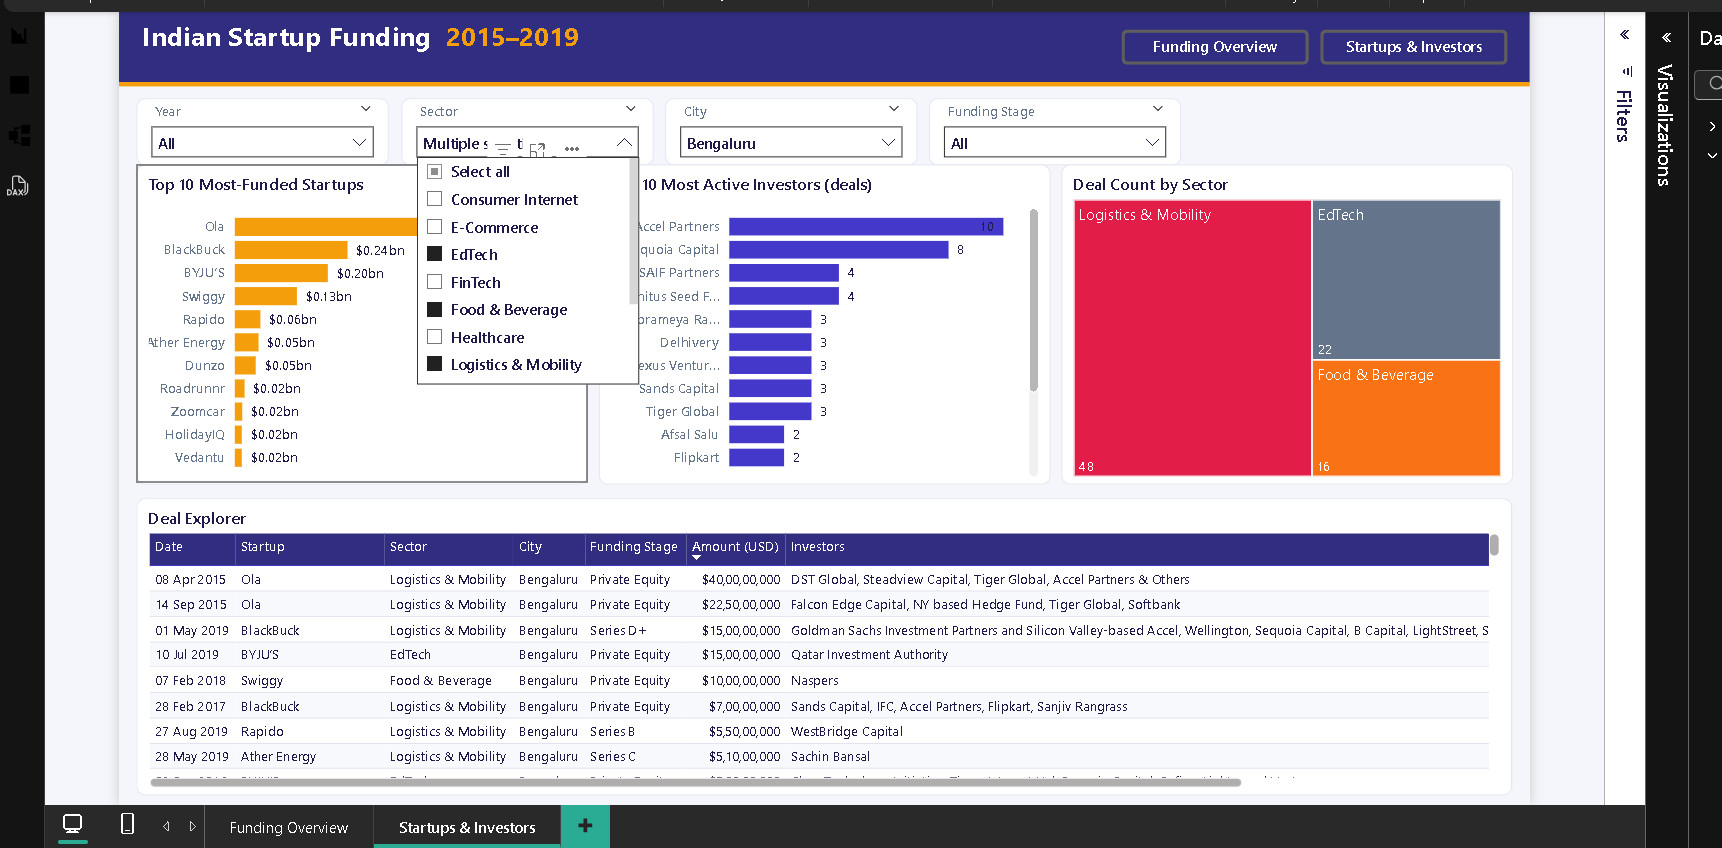

The dashboard page shown, as its layout file describes it:
{"tool":"powerbi","page":{"name":"Startups & Investors","canvas":[1280,720],"ordinal":1},"visuals":[{"type":"shape","box":[0,0,1280,64],"z":1000},{"type":"shape","box":[0,64,1280,4],"z":2000},{"type":"textbox","box":[16.3,0,641.9,45.3],"z":3000},{"type":"actionButton","box":[910,16,170,32],"z":5000},{"type":"actionButton","box":[1090,16,170,32],"z":6000},{"type":"slicer","fields":{"Values":["Deals.Year"]},"box":[16.3,77.9,229.1,60.5],"z":7000},{"type":"slicer","fields":{"Values":["Deals.Sector"]},"box":[255.8,77.9,229.1,60.5],"z":8000},{"type":"slicer","fields":{"Values":["Deals.City"]},"box":[495.4,77.9,229.1,60.5],"z":9000},{"type":"slicer","fields":{"Values":["Deals.Funding Stage"]},"box":[734.9,77.9,229.1,60.5],"z":10000},{"type":"clusteredBarChart","title":"Top 10 Most-Funded Startups","fields":{"Category":["Deals.Startup"],"Y":["Deals.Top 10 Startups by Funding"]},"box":[16,138,409.3,290],"z":12000},{"type":"clusteredBarChart","title":"Top 10 Most Active Investors (deals)","fields":{"Category":["DealInvestors.Investor"],"Y":["Deals.Top 10 Investors by Deals"]},"box":[435.3,138,409.3,290],"z":13000},{"type":"treemap","title":"Deal Count by Sector","fields":{"Group":["Deals.Sector"],"Values":["Deals.Deals"]},"box":[854.7,138,409.3,290],"z":14000},{"type":"tableEx","title":"Deal Explorer ","fields":{"Values":["Deals.Date","Deals.Startup","Deals.Sector","Deals.City","Deals.Funding Stage","Deals.Amount USD","Deals.Investors"]},"box":[16.3,440.7,1247.7,269.8],"z":15000}]}

Visuals, with their boxes on the page's 1280x720 design canvas (x1, y1, x2, y2). These are canvas units, not pixel positions in the 1722x848 screenshot, which may show the page scaled, cropped or inside an application window:
shape: detection(0, 0, 1280, 64)
shape: detection(0, 64, 1280, 68)
textbox: detection(16, 0, 658, 45)
actionButton: detection(910, 16, 1080, 48)
actionButton: detection(1090, 16, 1260, 48)
slicer - Deals.Year: detection(16, 78, 245, 138)
slicer - Deals.Sector: detection(256, 78, 485, 138)
slicer - Deals.City: detection(495, 78, 724, 138)
slicer - Deals.Funding Stage: detection(735, 78, 964, 138)
"Top 10 Most-Funded Startups" clusteredBarChart: detection(16, 138, 425, 428)
"Top 10 Most Active Investors (deals)" clusteredBarChart: detection(435, 138, 845, 428)
"Deal Count by Sector" treemap: detection(855, 138, 1264, 428)
"Deal Explorer " tableEx: detection(16, 441, 1264, 710)
